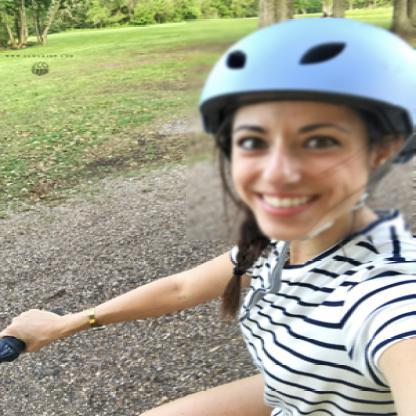Helmet: (195, 7, 416, 335)
